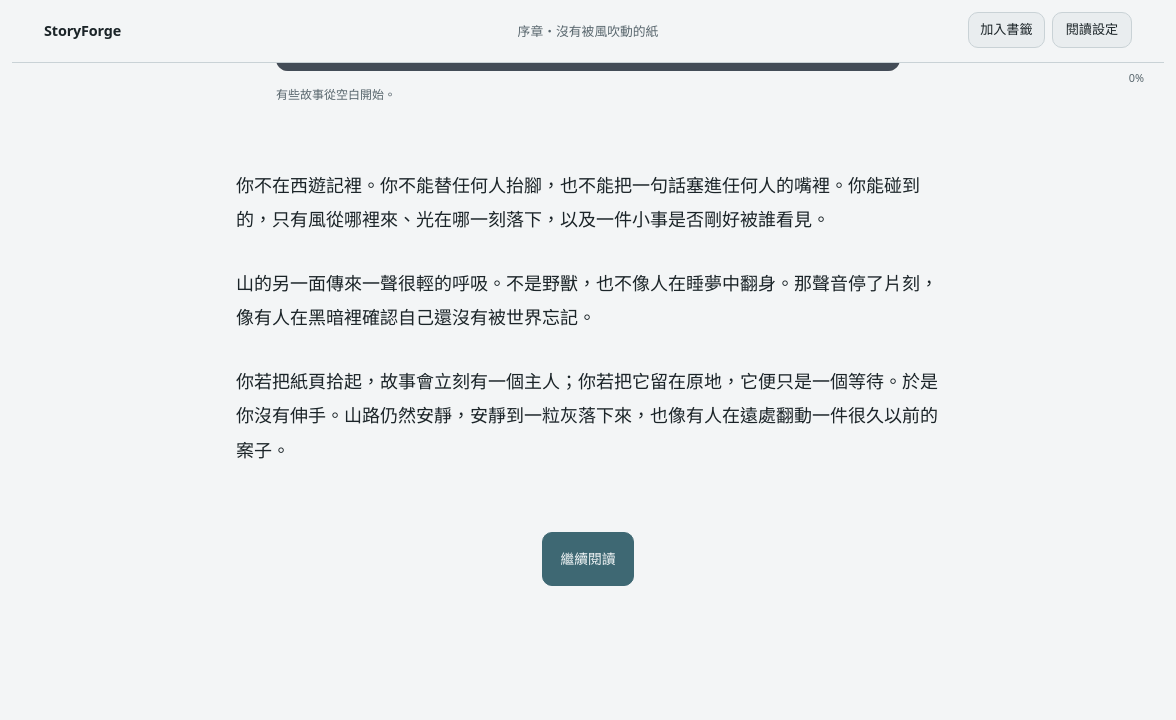
it: Book reader › commits the mist Choice without rendering the light branch
(page scrolled)
Click the button "繼續閱讀" at (588, 559), box [542,532,634,586]
(page scrolled)
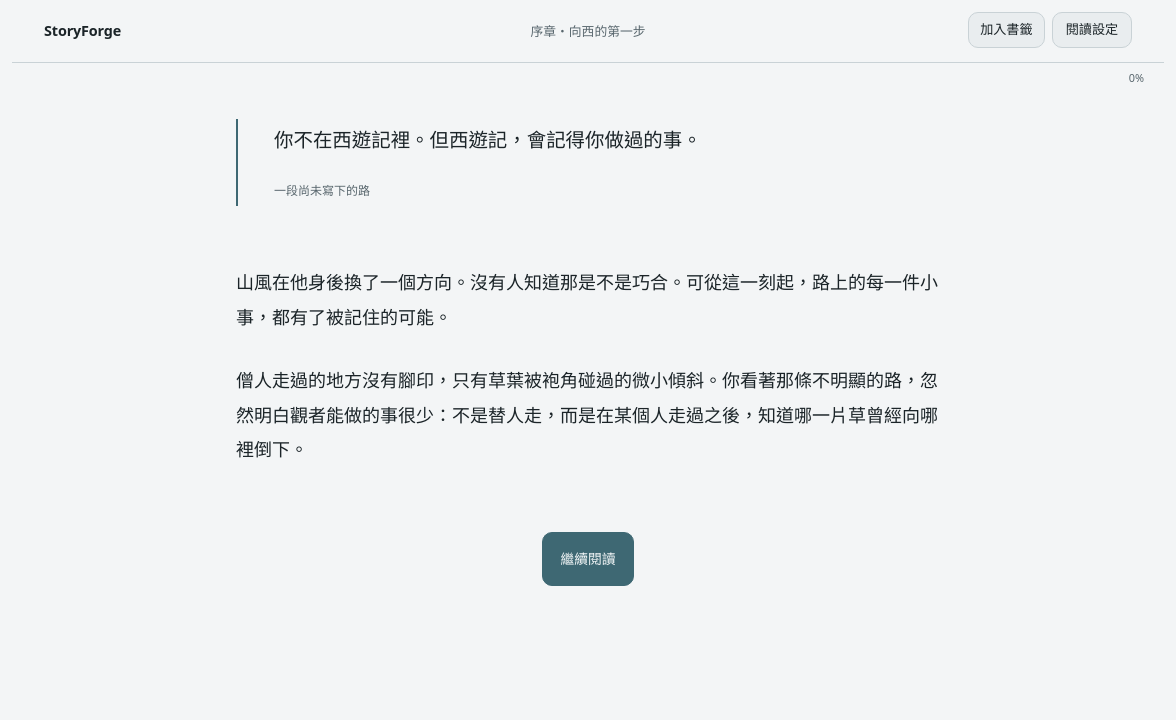
Click the button "繼續閱讀" at (588, 559), box [542,532,634,586]
(page scrolled)
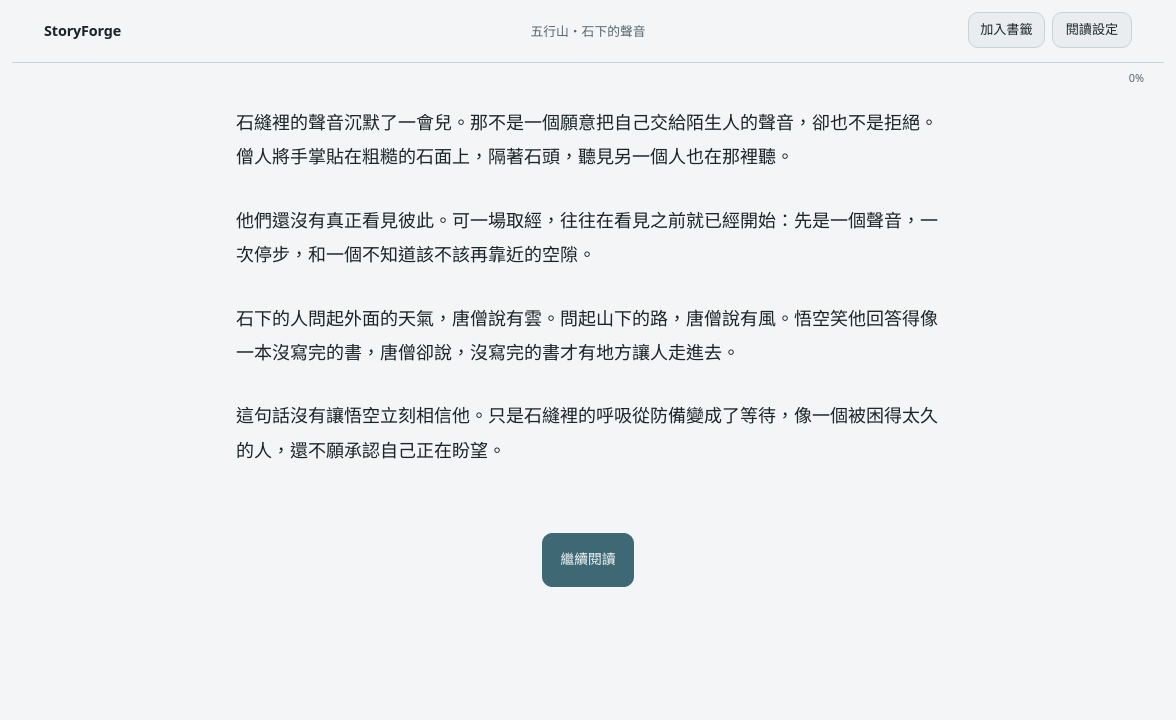
Click the button "繼續閱讀" at (588, 560), box [542,533,634,587]
(page scrolled)
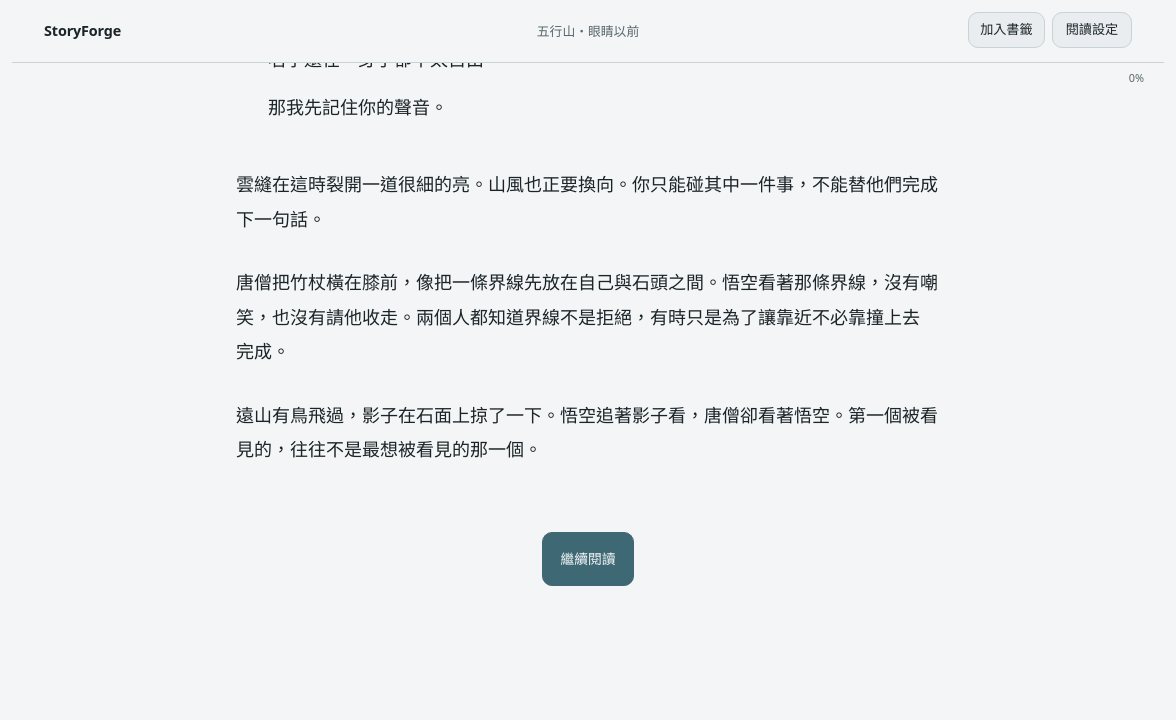
Click the button "繼續閱讀" at (588, 559), box [542,532,634,586]
(page scrolled)
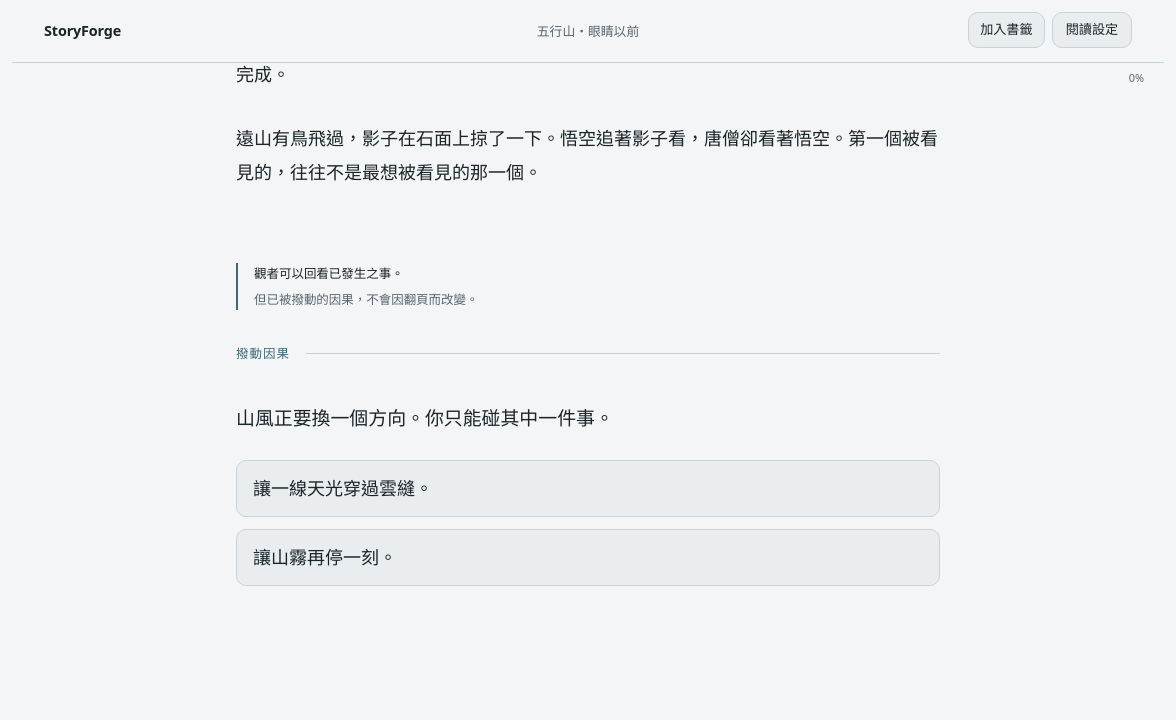
Click the button "讓山霧再停一刻。" at (325, 557), box [236,529,940,586]
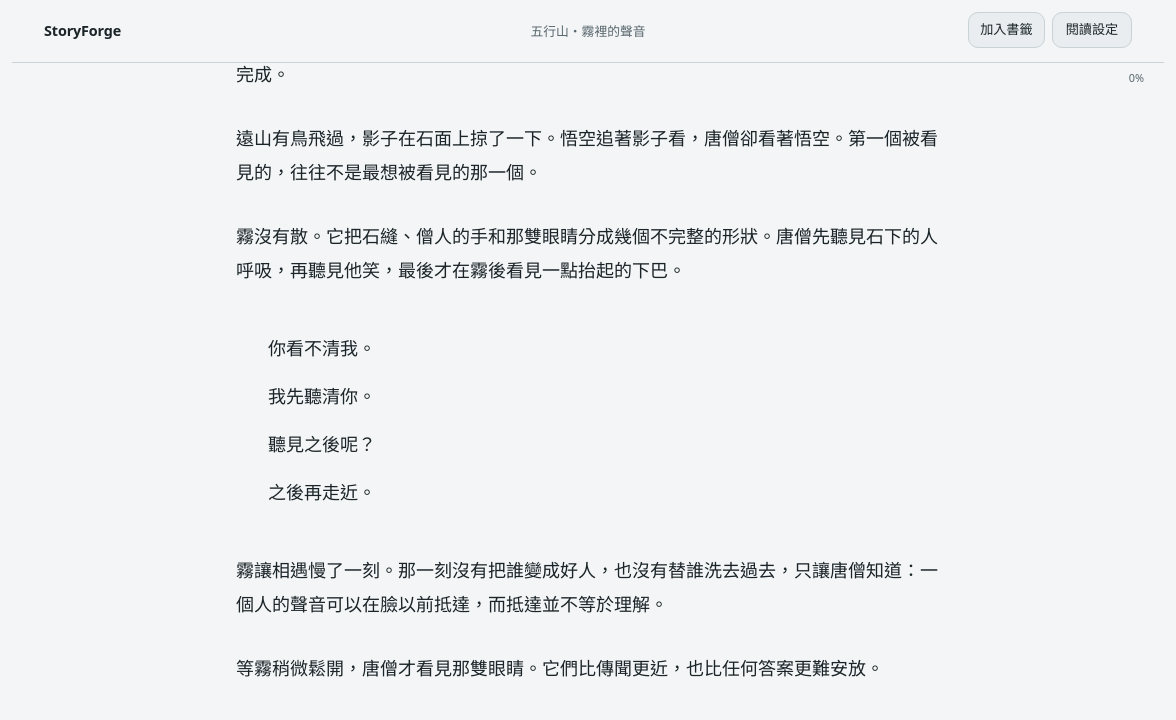
Result: the text "霧沒有散" is shown at [236,226,938,281]
